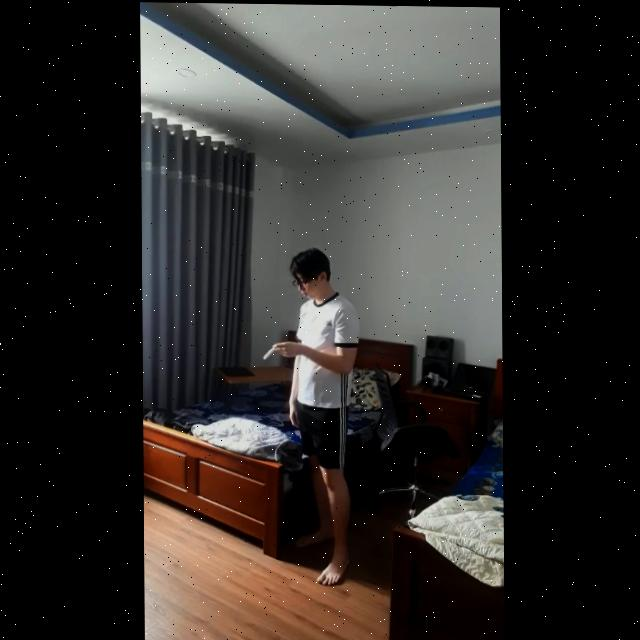cigarette: (263, 345, 275, 360)
